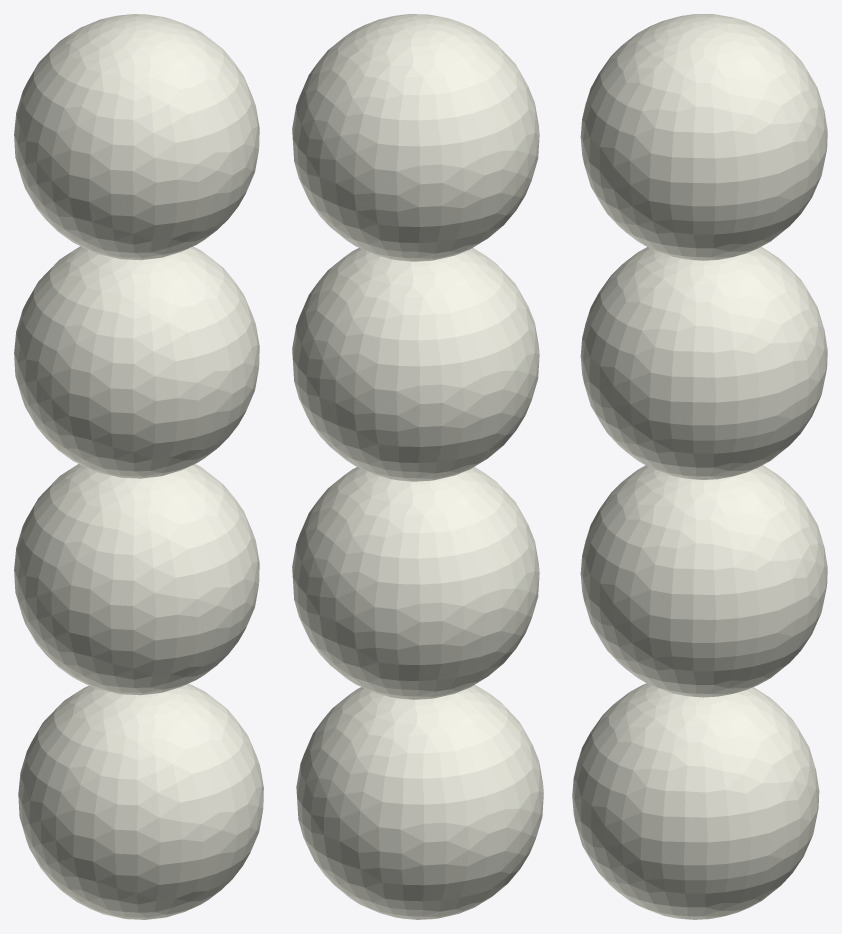
The model's file is huevos_fumosa.fbx.
3 views of the same model, side by side, from view 1: azimuth 30°, elevation 25°; view 2: azimuth 150°, elevation 25°; view 3: azimuth 270°, elevation 25° (orthographic).
Visible parts, largest first — view 1: Sphere.003, Sphere, Sphere.002, Sphere.001; view 2: Sphere.003, Sphere, Sphere.002, Sphere.001; view 3: Sphere.003, Sphere, Sphere.002, Sphere.001.
Part boxes in pixels (box(x1,y1,x2,y2)): Sphere.003: box(14, 14, 259, 260); Sphere: box(18, 683, 263, 919); Sphere.002: box(14, 246, 259, 478); Sphere.001: box(14, 464, 259, 695); Sphere.003: box(292, 14, 539, 261); Sphere: box(296, 685, 543, 919); Sphere.002: box(292, 248, 539, 481); Sphere.001: box(292, 467, 539, 699); Sphere.003: box(580, 14, 827, 260); Sphere: box(572, 683, 819, 919); Sphere.002: box(580, 247, 827, 479); Sphere.001: box(580, 465, 827, 697).
Size of the model in its own units: 101 by 398 by 104.
Materials: 1 (1 with a texture image).
